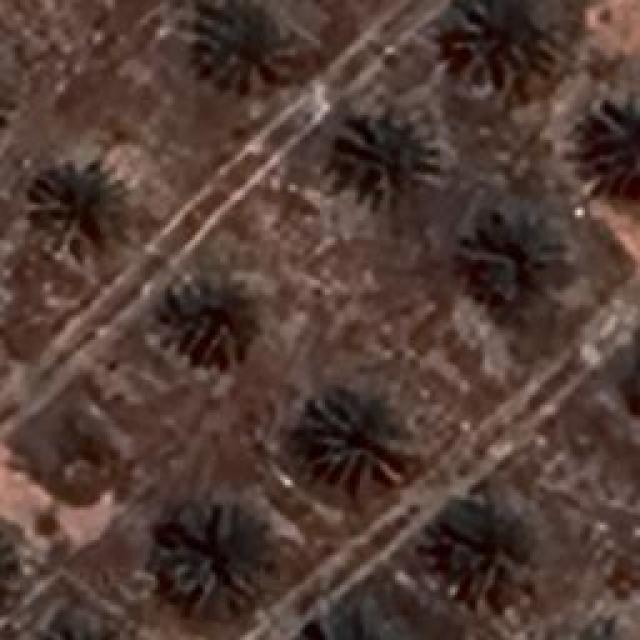PalmTree: (462, 202, 568, 300), (305, 390, 405, 488), (160, 505, 255, 605), (438, 495, 524, 603), (448, 0, 560, 80), (162, 270, 260, 360), (340, 112, 442, 198), (198, 2, 290, 90), (30, 160, 120, 248), (590, 90, 638, 195), (38, 605, 138, 640), (292, 605, 392, 640), (560, 611, 640, 640), (0, 526, 23, 602)
